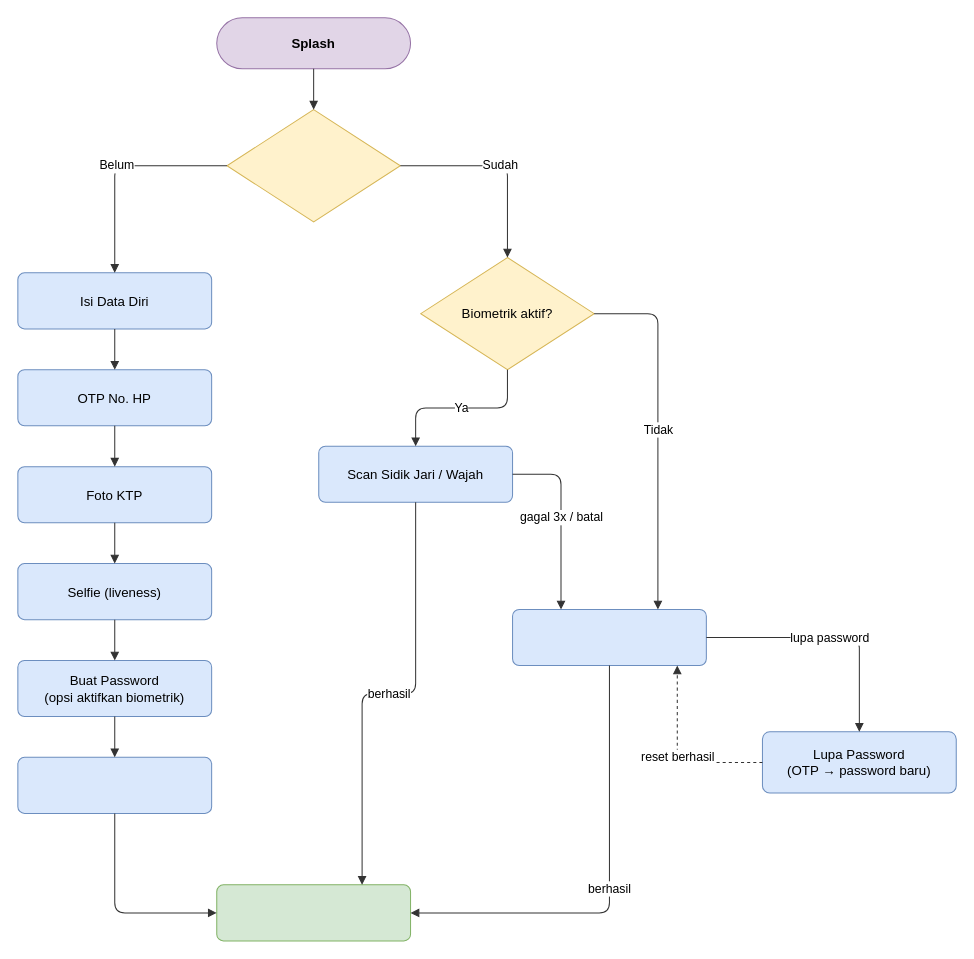
Image size: 974x959. Some labels were removed from this diagram. The shapes that lost their labels are listed below. From the top down, each one's centre as x and y in pixels, then its label:
At [313,165]: "Sudah punya akun?".
At [609,637]: "Login Password".
At [114,784]: "Menunggu Verifikasi".
At [313,912]: "Home".
